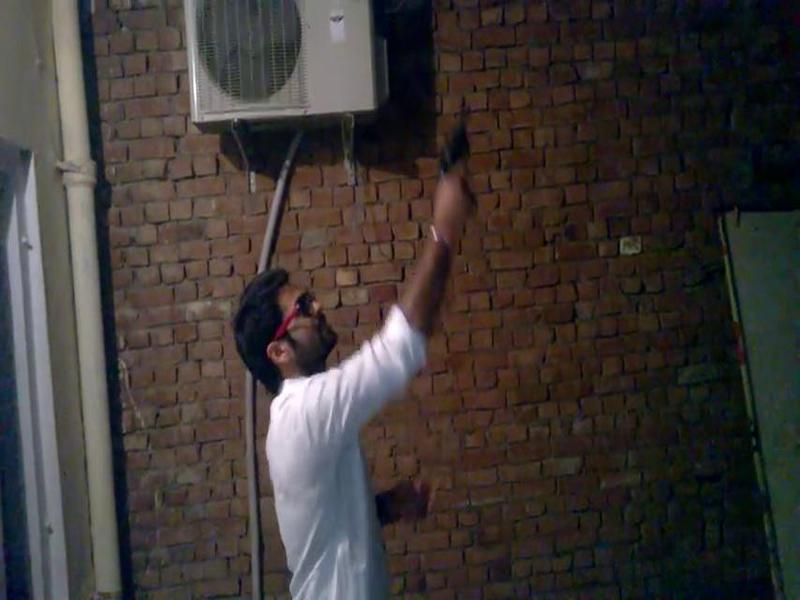Revolver: (420, 104, 505, 225)
